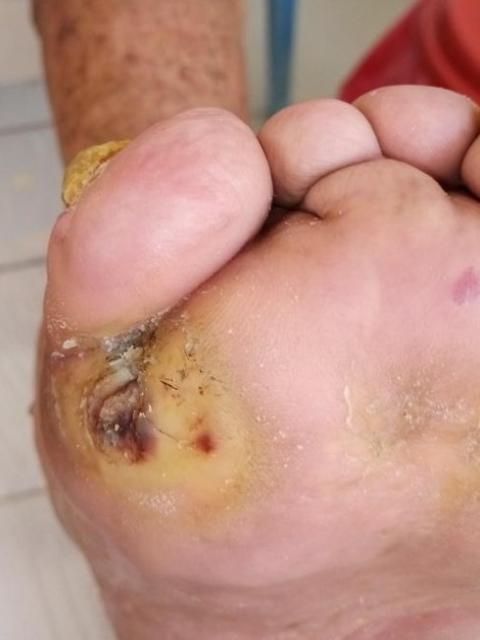wound: (79, 310, 178, 471), (450, 265, 479, 306), (188, 424, 225, 456)
